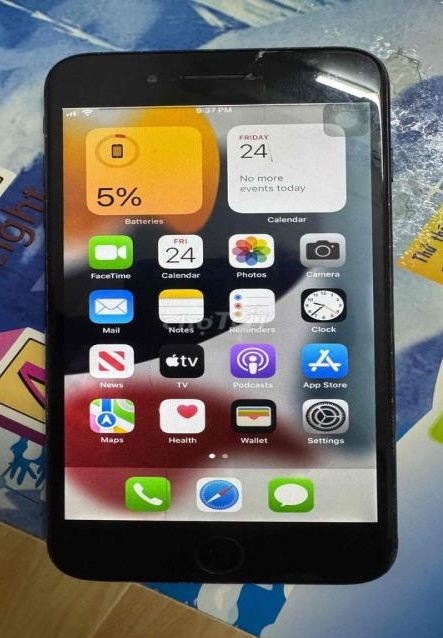physical_damage: (107, 324, 226, 530), (199, 47, 300, 173)
scratch: (302, 49, 382, 131)
